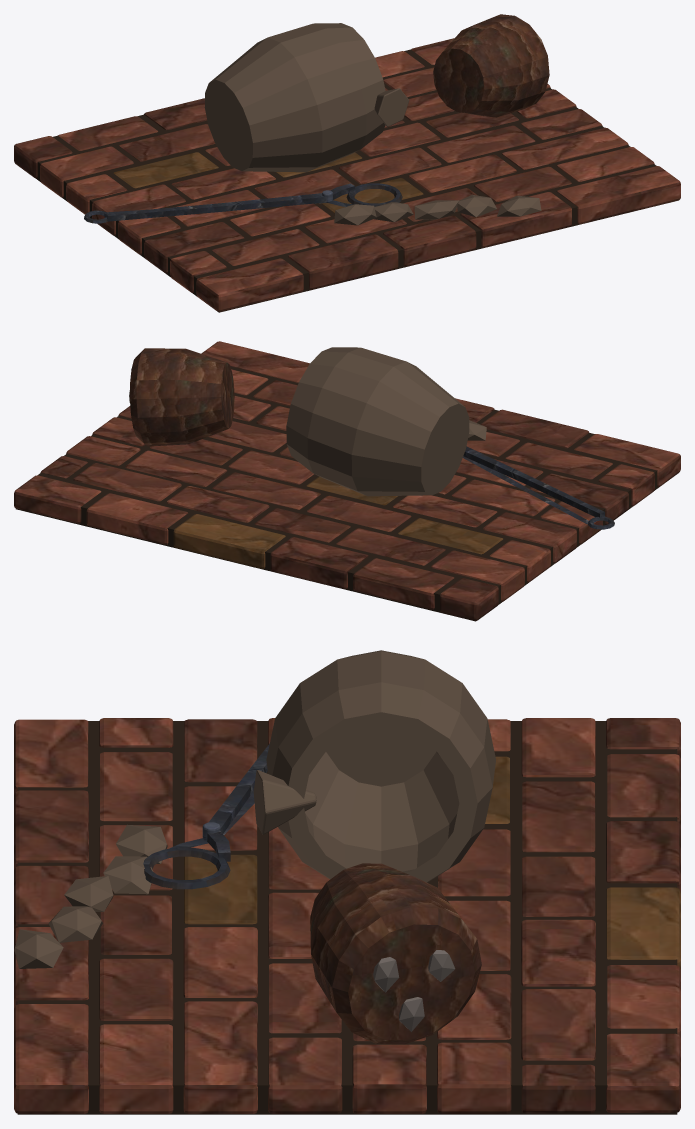
The model's file is cf_crucible_dropped.glb.
The picture shows the model from 3 angles, top to bottom: view 1: azimuth 30°, elevation 25°; view 2: azimuth 150°, elevation 25°; view 3: azimuth 270°, elevation 25°; orthographic projection. The views are drawn at different scales.
Visible parts, largest first — view 1: model; view 2: model; view 3: model.
Boxes of the visible parts, x1,y1,x2,y2 form: model: (14,14,680,312); model: (14,341,680,621); model: (14,650,680,1114).
Size of the model in its own units: 1.37 by 0.3942 by 0.987.
12 materials, 9 textured.
